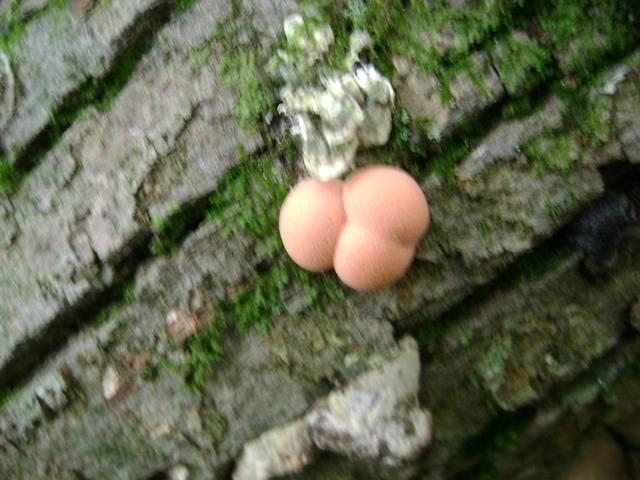poisonous_mushroom: (331, 163, 430, 292), (277, 175, 345, 273)
